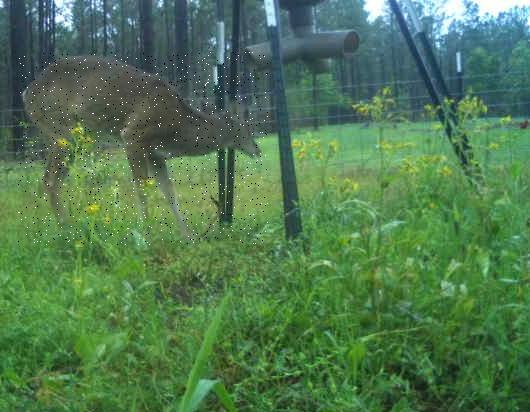Deer: (19, 52, 269, 245)
